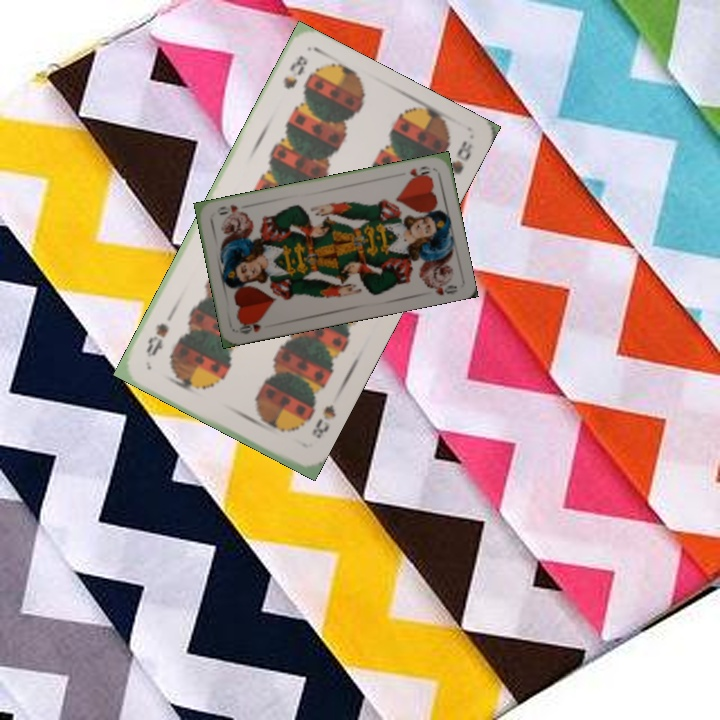HO: (235, 316, 265, 337), (404, 162, 433, 183)
S8: (307, 400, 339, 441), (279, 51, 310, 92)
